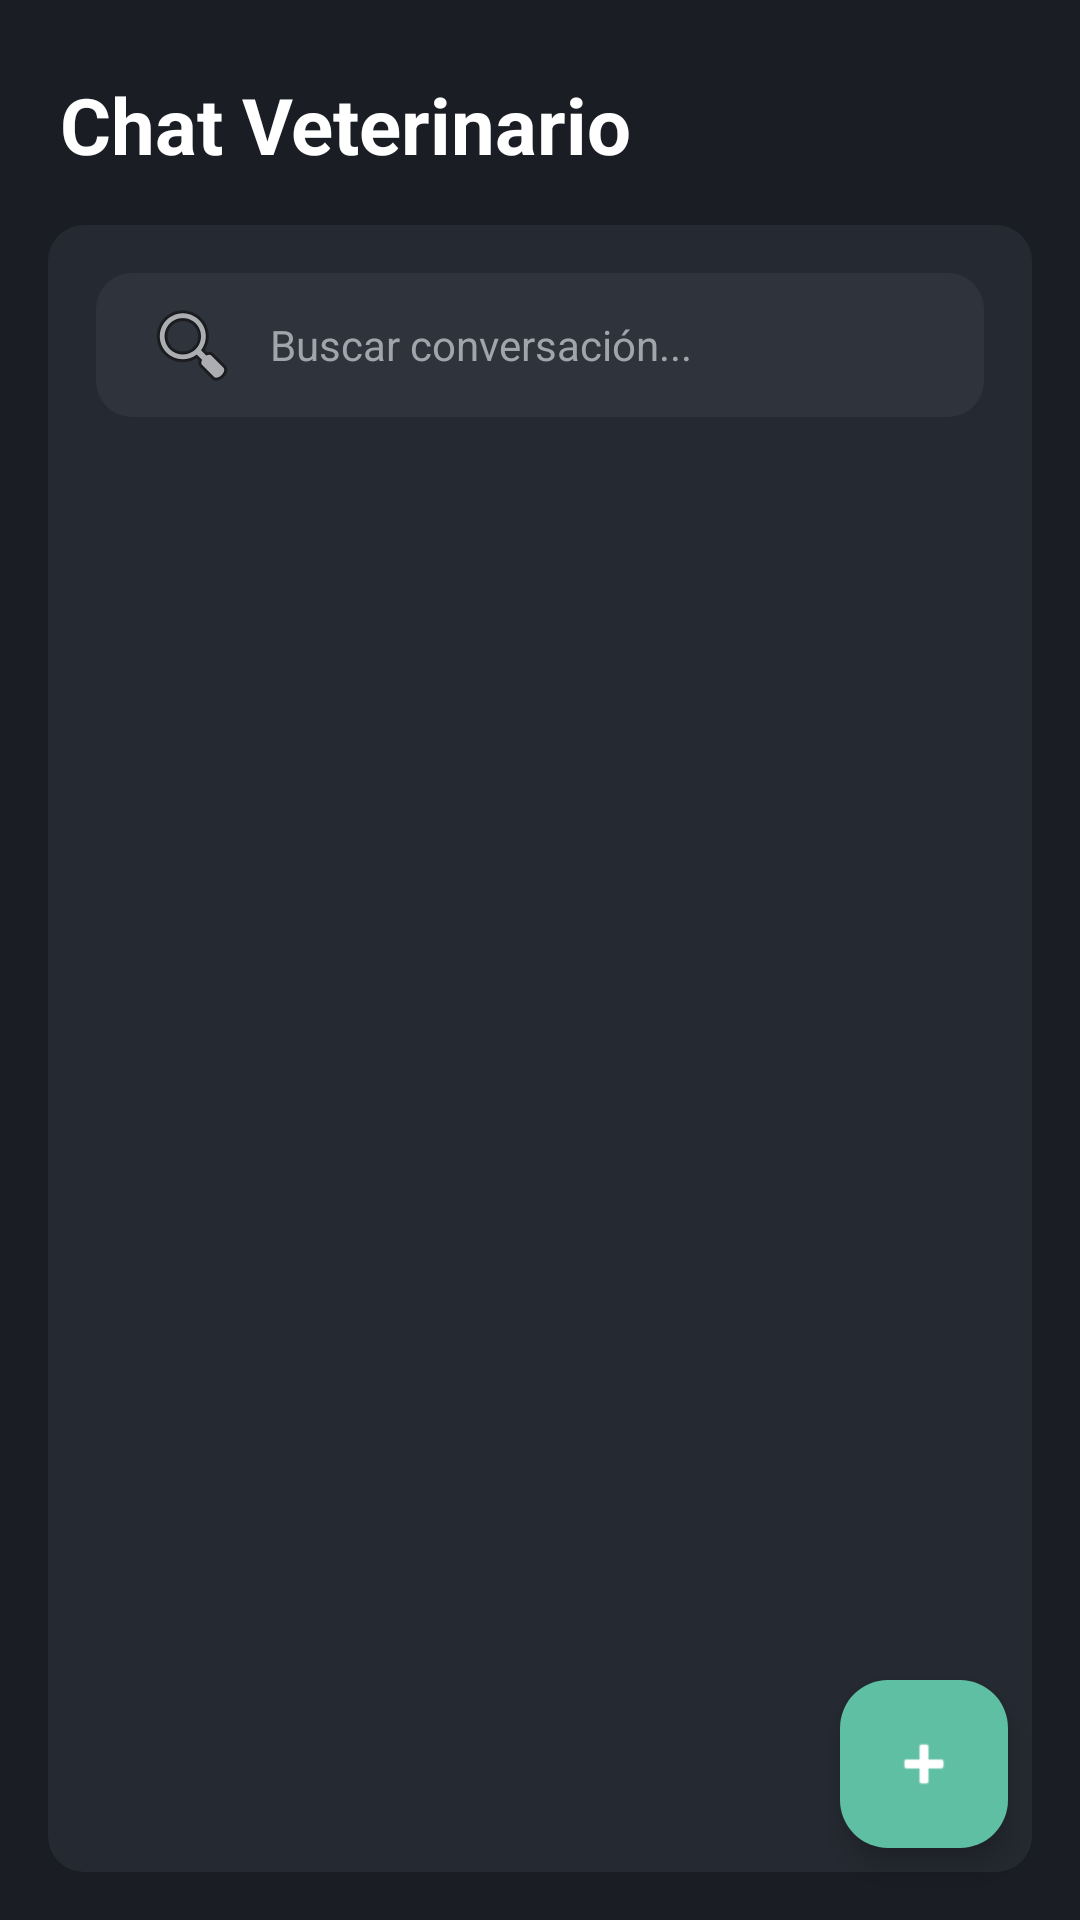

Where icons sit on this 1080px x 1920px app screen, as (x1, y1, x2, y2):
add: (840, 1680, 1008, 1848)
